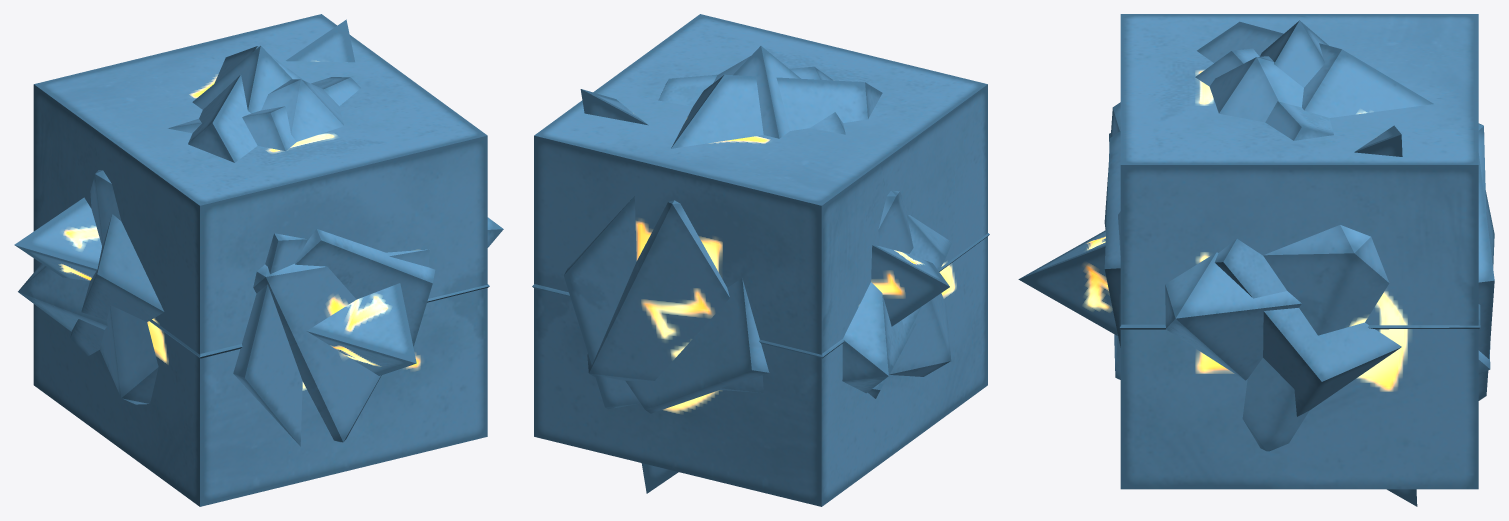
The model's file is dices.gltf.
The picture shows the model from 3 angles, left to right: view 1: azimuth 30°, elevation 25°; view 2: azimuth 150°, elevation 25°; view 3: azimuth 270°, elevation 25°; orthographic projection. The views are drawn at different scales.
Parts seen in each view (by area): view 1: D6, D20, D10, D12, D4, D8; view 2: D6, D10, D20, D12, D4, D8; view 3: D6, D10, D20, D12, D4, D8.
Part boxes in pixels (x1,y1,x2,y2): D6: (33, 14, 487, 506); D20: (90, 79, 429, 442); D10: (18, 46, 503, 446); D12: (70, 77, 435, 356); D4: (14, 19, 416, 375); D8: (147, 45, 489, 358); D6: (534, 14, 987, 506); D10: (564, 74, 916, 409); D20: (587, 56, 951, 392); D12: (625, 66, 952, 413); D4: (580, 89, 949, 493); D8: (532, 46, 989, 358); D6: (1120, 14, 1478, 489); D10: (1104, 21, 1494, 400); D20: (1109, 56, 1490, 451); D12: (1104, 48, 1494, 416); D4: (1018, 125, 1417, 506); D8: (1119, 20, 1480, 329).
Size of the model in its own units: 1.77 by 1.8 by 1.68.
Materials: 6 (6 with a texture image).
